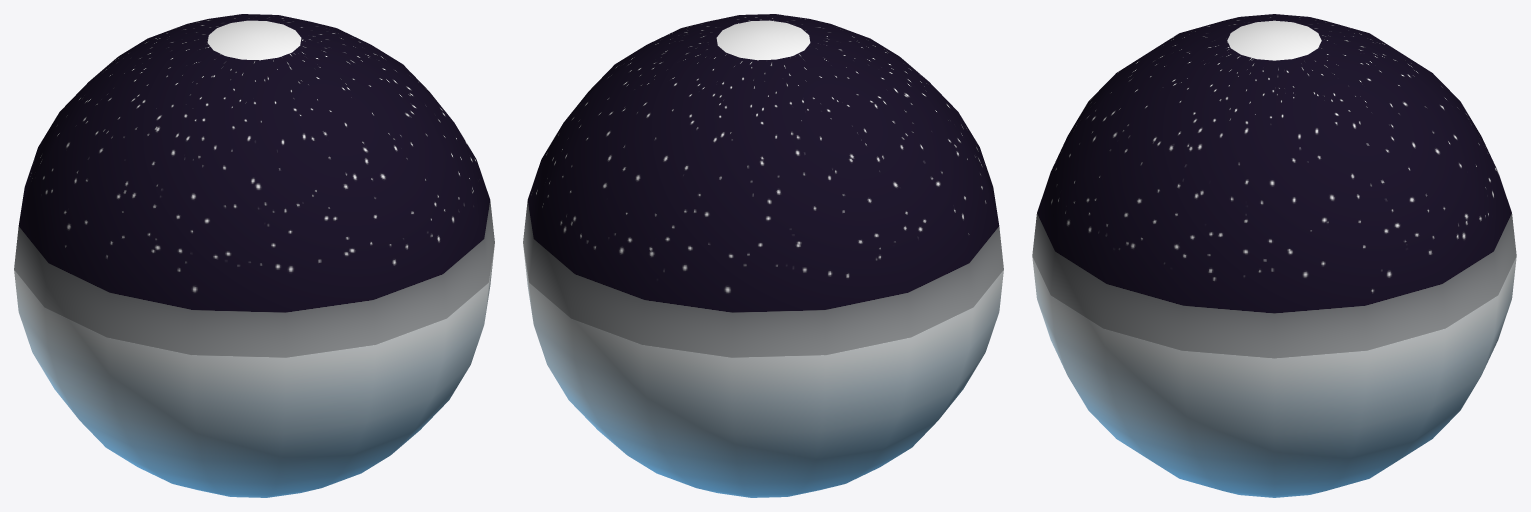
Rendered from Skydome.obj.
The picture shows the model from 3 angles, left to right: view 1: azimuth 30°, elevation 25°; view 2: azimuth 150°, elevation 25°; view 3: azimuth 270°, elevation 25°; orthographic projection.
Parts seen in each view (by area): view 1: Skydome:Skydome; view 2: Skydome:Skydome; view 3: Skydome:Skydome.
Part boxes in pixels (x1,y1,x2,y2): Skydome:Skydome: (14,14,494,497); Skydome:Skydome: (523,14,1003,497); Skydome:Skydome: (1032,14,1516,497).
Bounding box in the file's own units: 8000 × 8000 × 8000.
